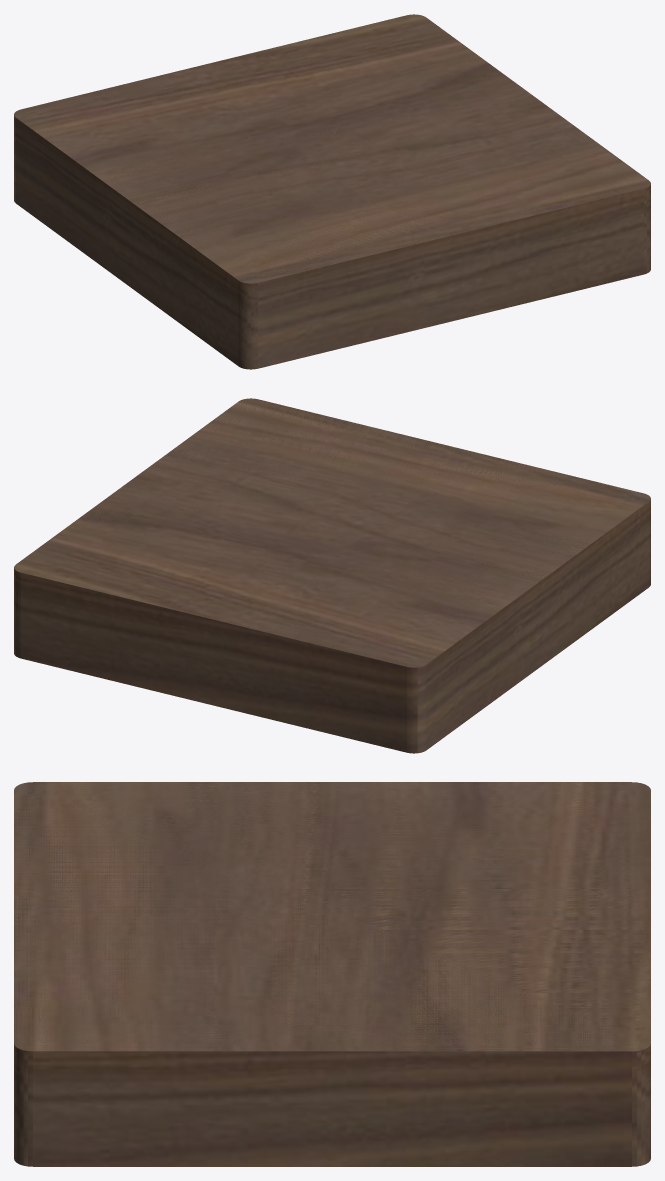
File: square_walnut.fbx
3 renders of one model, top to bottom at view 1: azimuth 30°, elevation 25°; view 2: azimuth 150°, elevation 25°; view 3: azimuth 270°, elevation 25°, orthographic. The views are drawn at different scales.
Visible parts, largest first — view 1: Model; view 2: Model; view 3: Model.
Part boxes in pixels (x1,y1,x2,y2): Model: (14, 14, 650, 369); Model: (14, 398, 650, 753); Model: (14, 782, 650, 1166).
Bounding box in the file's own units: 5 × 1 × 5.
